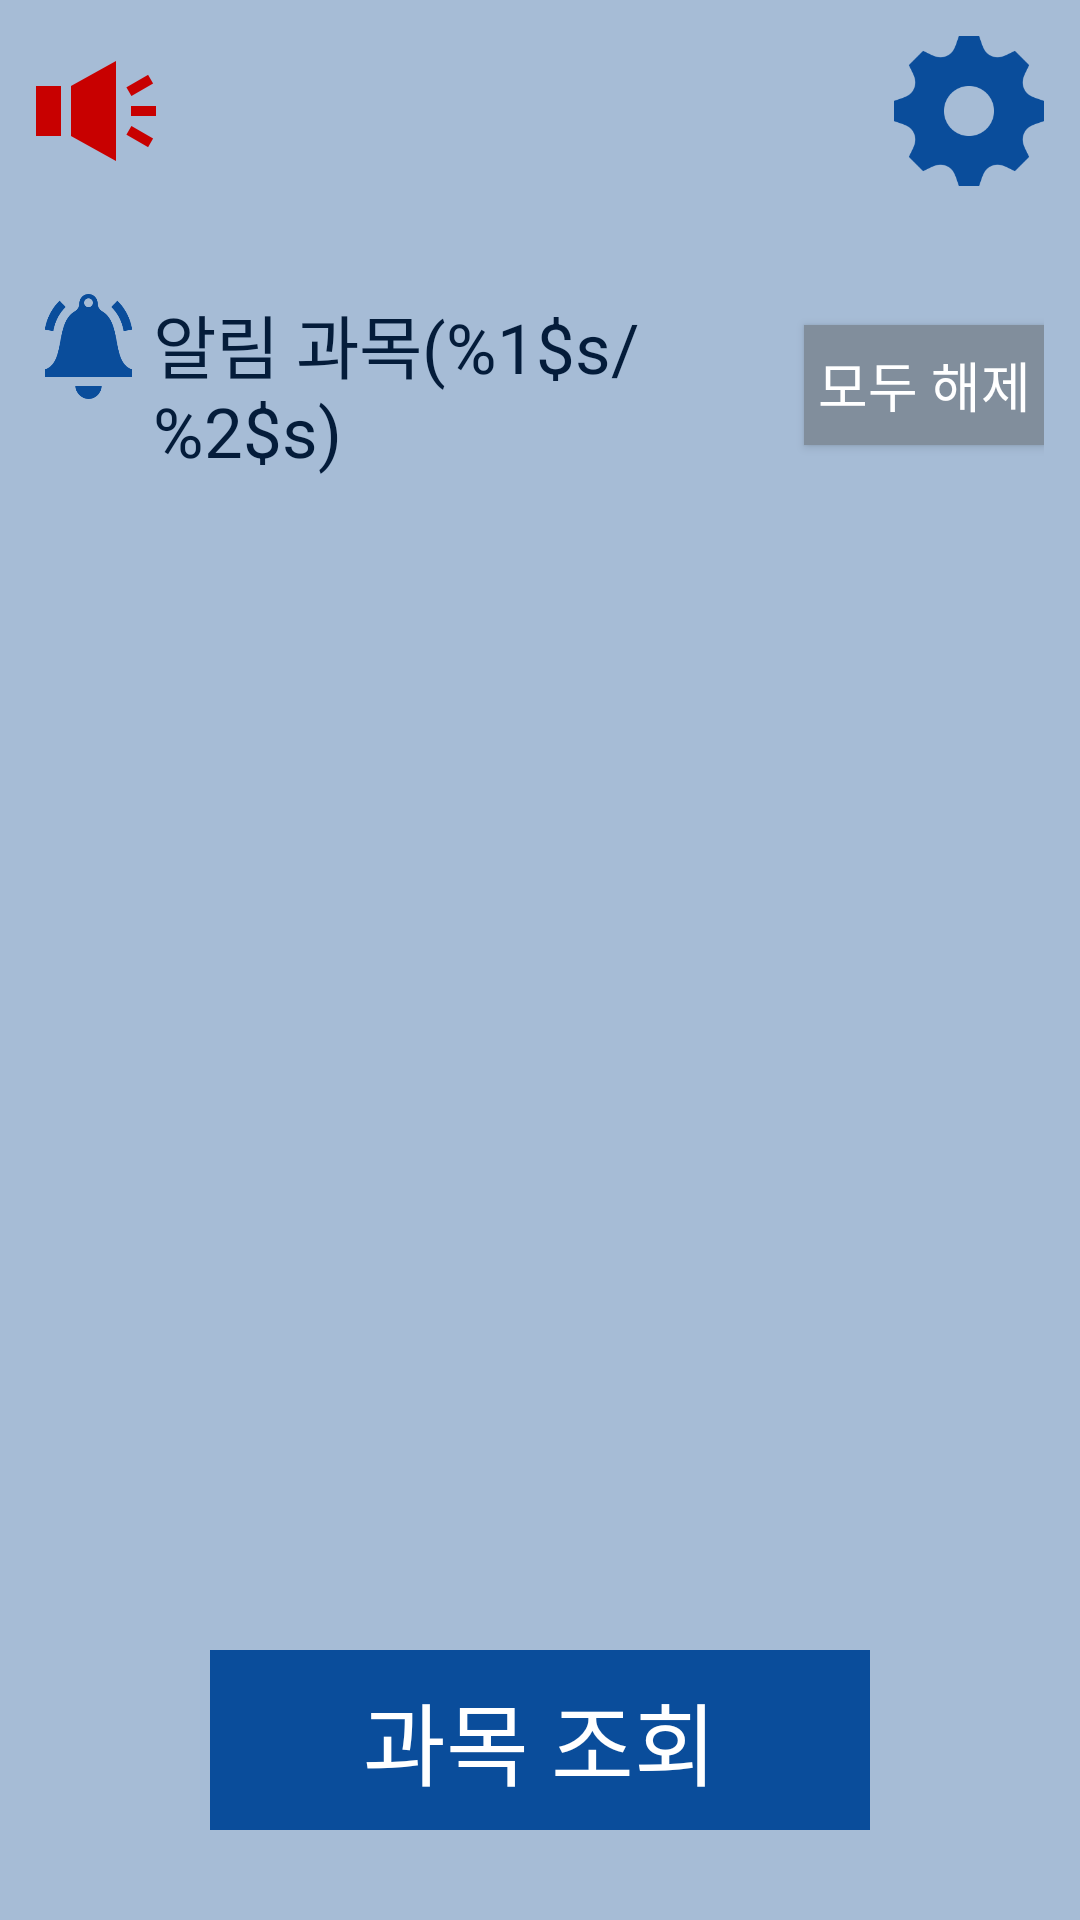

Screen size 1080×1920. Icon name, then its box in pixels as [left=x1, top=y1, right=x2, bottom=y2]:
공지 이미지: [left=36, top=61, right=156, bottom=161]
설정 버튼: [left=894, top=36, right=1044, bottom=186]
알림 과목 아이콘: [left=45, top=294, right=132, bottom=399]
